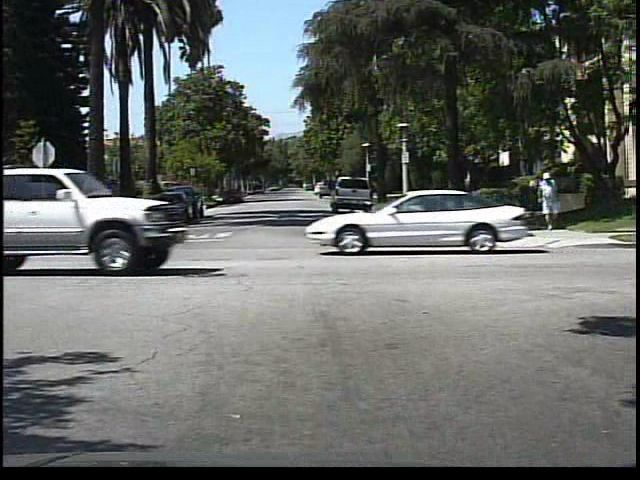person: (533, 171, 562, 233)
